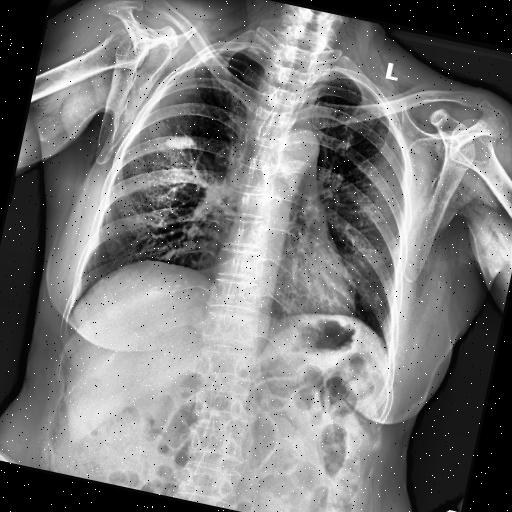0- Aortic enlargement: (266, 125, 324, 182), (284, 126, 324, 172)
13- Pulmonary fibrosis: (162, 131, 196, 153)
2- Calcification: (162, 134, 192, 150)
8- Nodule-Mass: (162, 134, 192, 150)
9- Other lesion: (162, 131, 196, 153), (163, 131, 194, 152)
